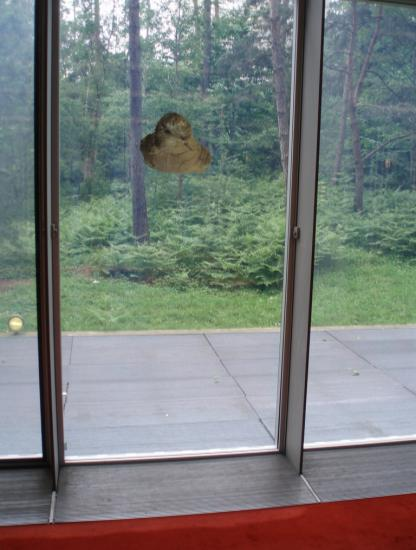Ginger: (141, 108, 215, 182)
